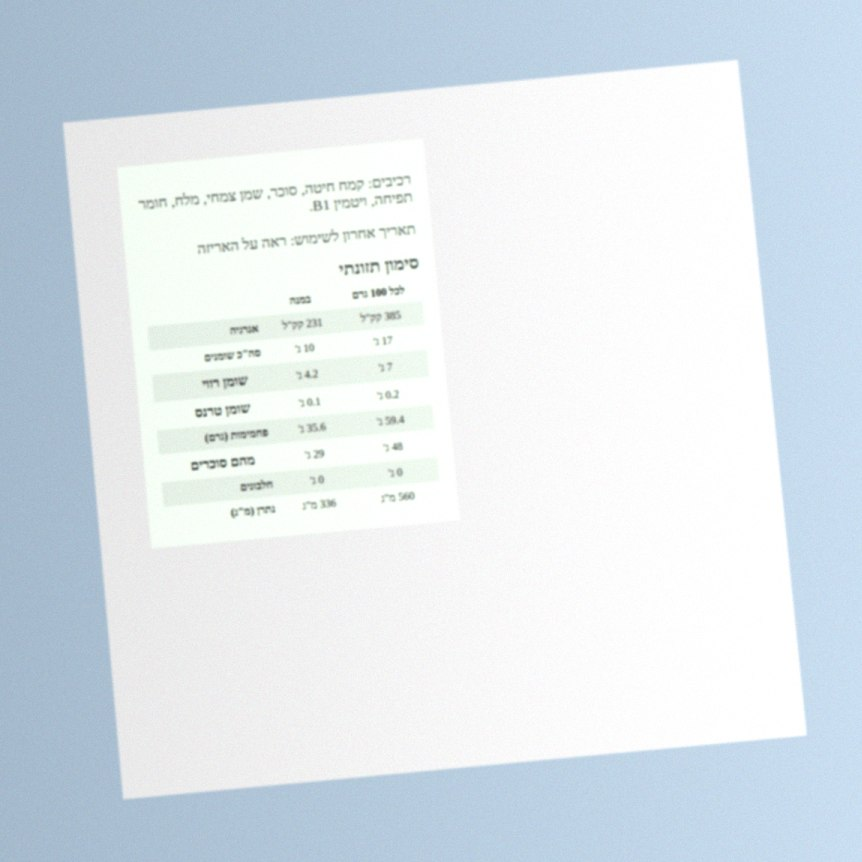carbs: (375, 412, 406, 429)
energy: (358, 307, 403, 326)
fat: (371, 333, 395, 349)
protein: (387, 465, 404, 481)
